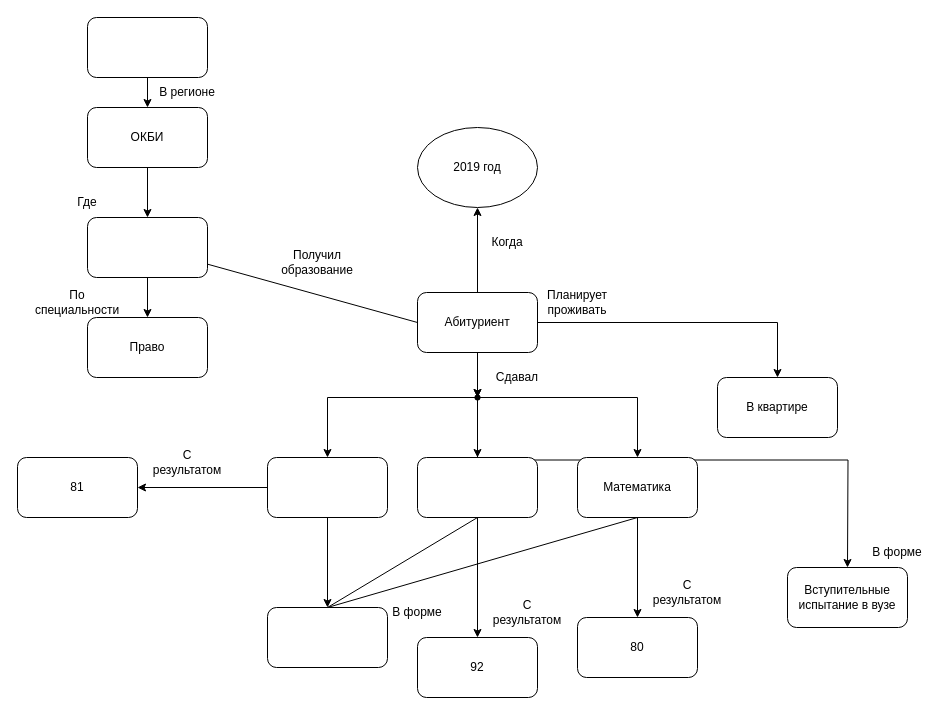
The diagram is 945 pixels wide and 715 high, and some of its shapes have lost their labels. The centre of each missing label's shape, as x and y in pixels:
Егэ: [327,637]
Информатика: [327,487]
Казань: [147,47]
Русский язык: [477,487]
Среднее образование: [147,247]
